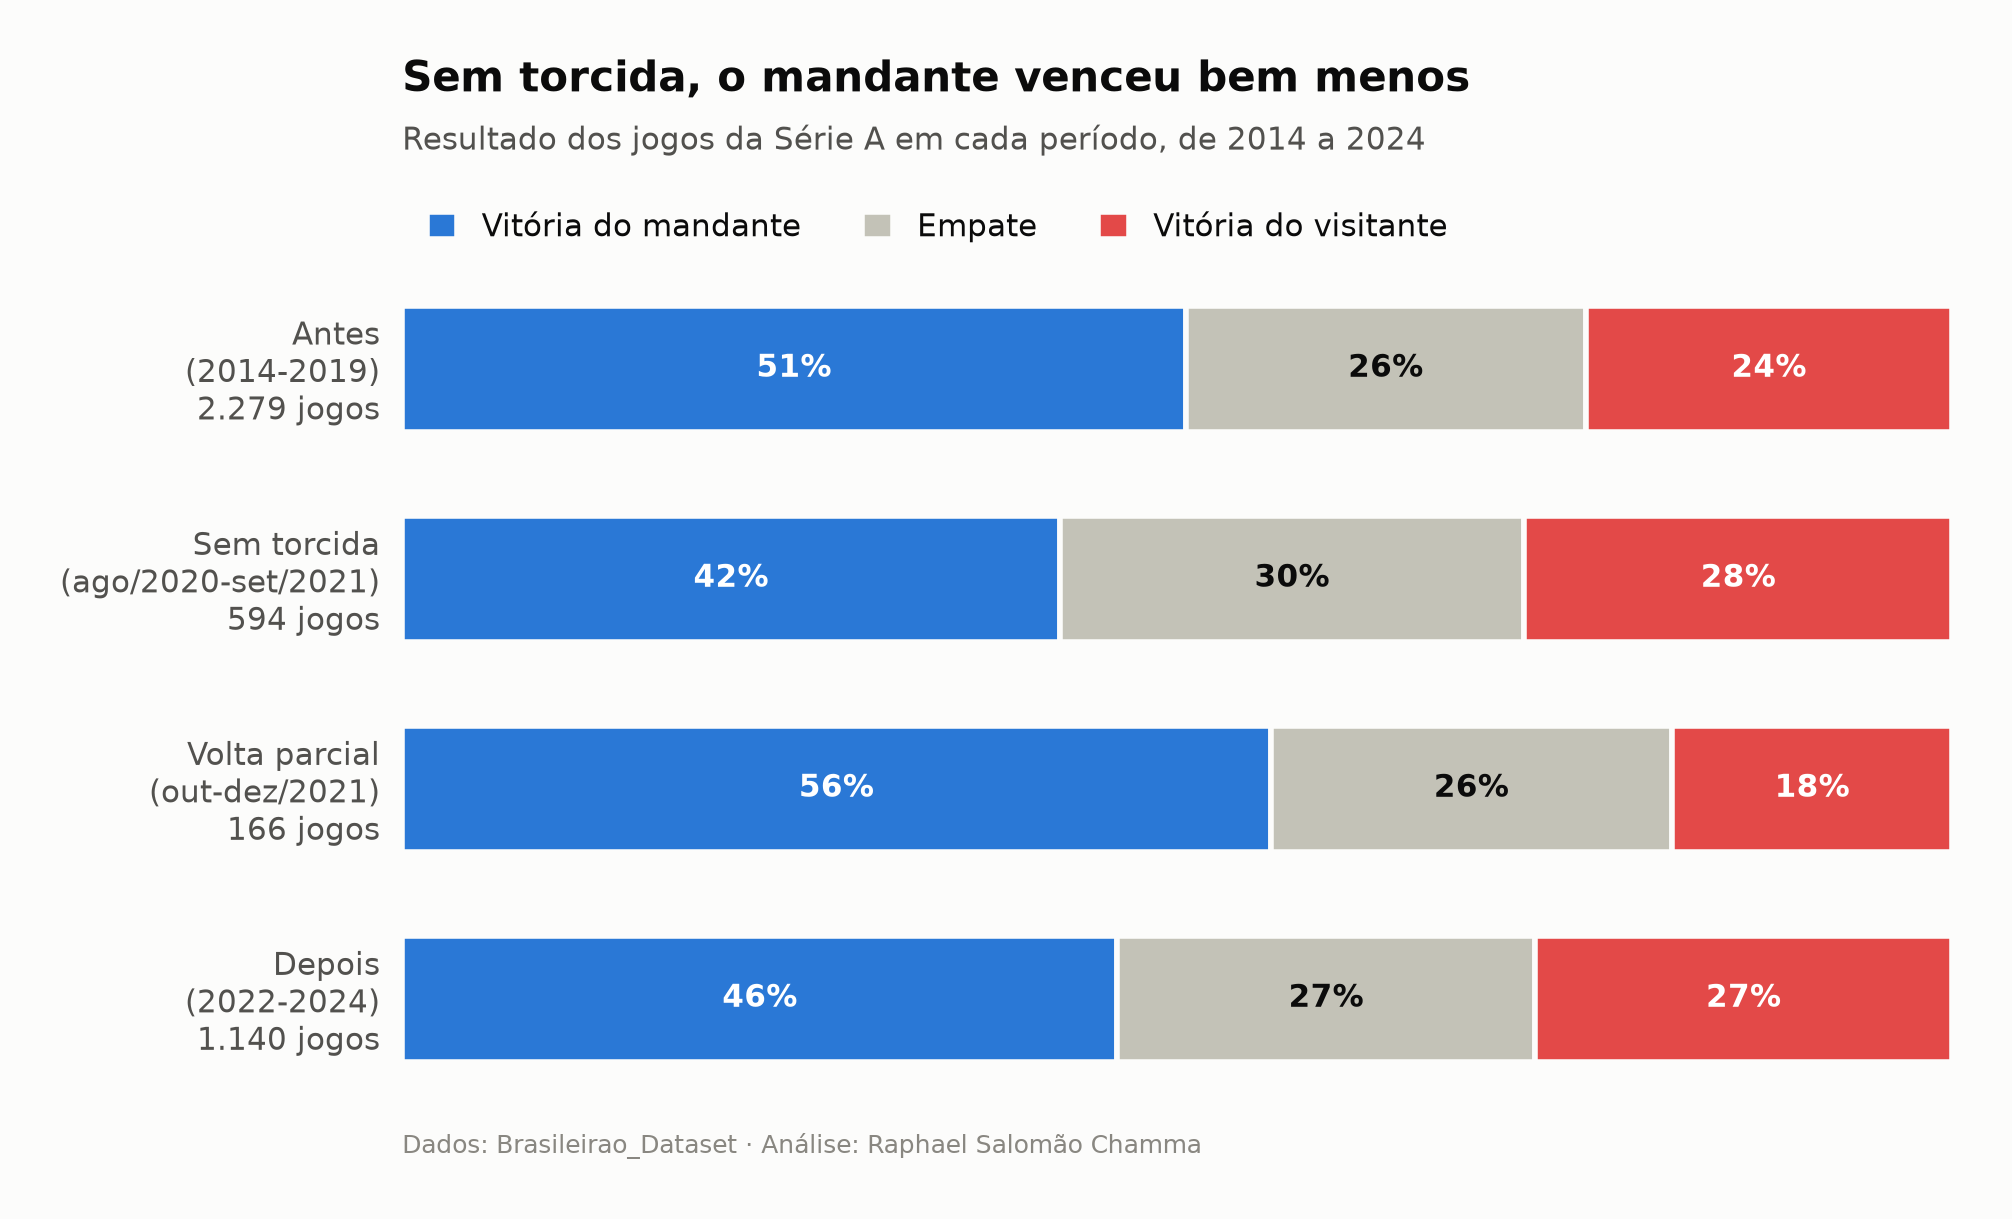

Layout of this report page (visuals, bound fields, positions):
{"tool":"powerbi","page":{"name":"Page 2","canvas":[1920,1080],"ordinal":1},"visuals":[{"type":"hundredPercentStackedBarChart","title":"Resultado dos jogos por cada periodo","fields":{"Category":["partidas.Periodo"],"Series":["partidas.Resultado do jogo"],"Y":["partidas.% dos Jogos"]},"box":[0,0,1920.6,1080],"z":0}]}

Visuals, with their boxes on the page's 1920x1080 design canvas (x1, y1, x2, y2). These are canvas units, not pixel positions in the 2012x1219 screenshot, which may show the page scaled, cropped or inside an application window:
"Resultado dos jogos por cada periodo" hundredPercentStackedBarChart: [left=0, top=0, right=1921, bottom=1080]
